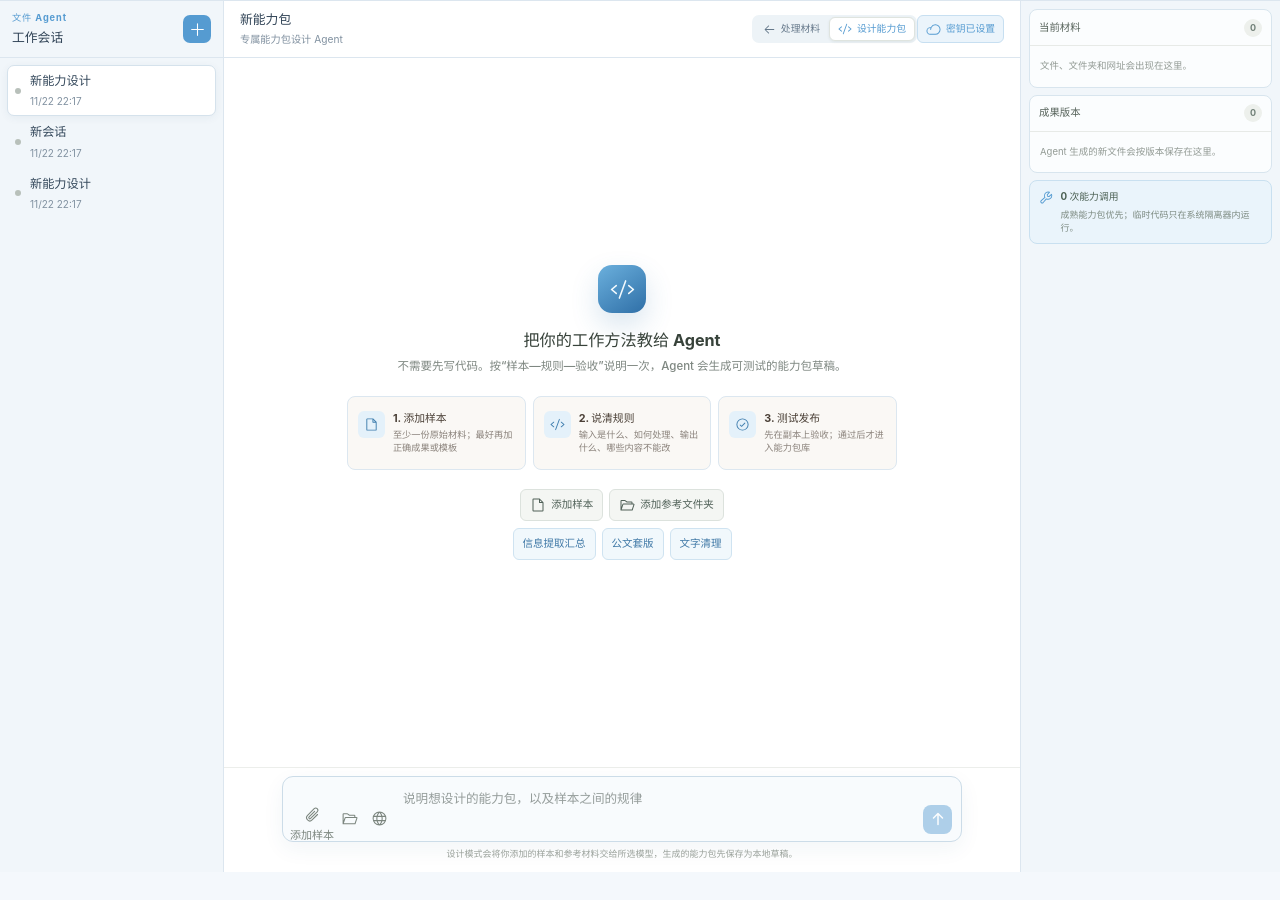
Test: keeps the full substantive request after an opening greeting and submits it once
Expected: the button named "新建设计会话" is enabled, [183,15,211,43]
Type "你好，请把多份 Word 报表按单位汇总为 Excel。" into the text box. click: (658,809)
box: [401,784,916,834]
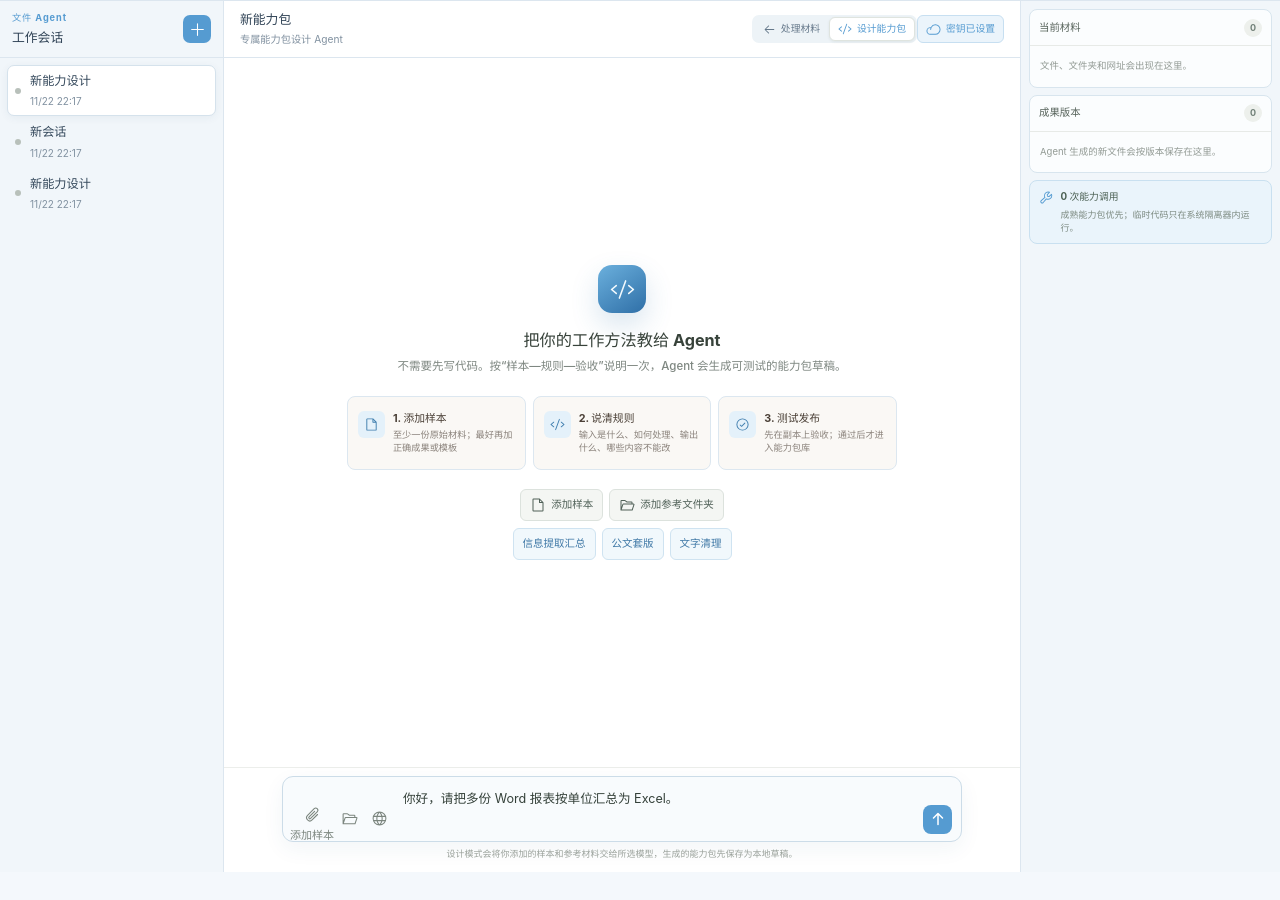
Result: the button named "发送消息" is enabled
Click the button named "发送消息". click: (938,819)
box: [923,804,952,834]
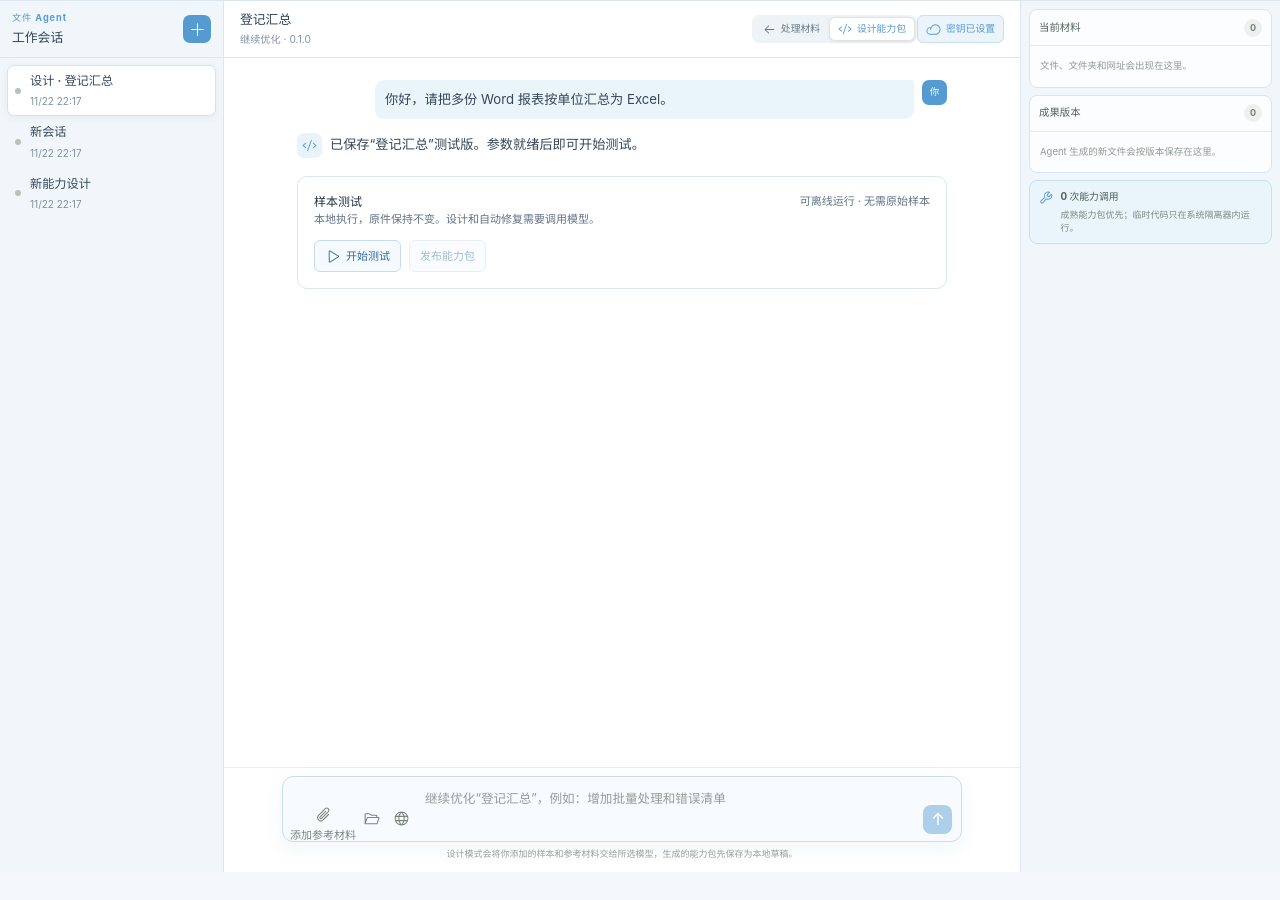
Result: the text "你好，请把多份 Word 报表按单位汇总为 Excel。" is shown at [385,91,673,107]
Result: the element named "能力包样本测试" is shown at [297,176,947,289]
